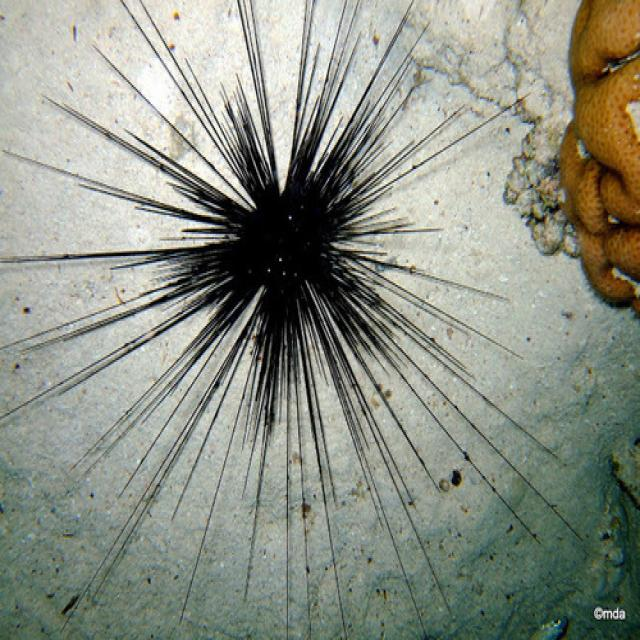Urchin: (44, 2, 570, 623)
